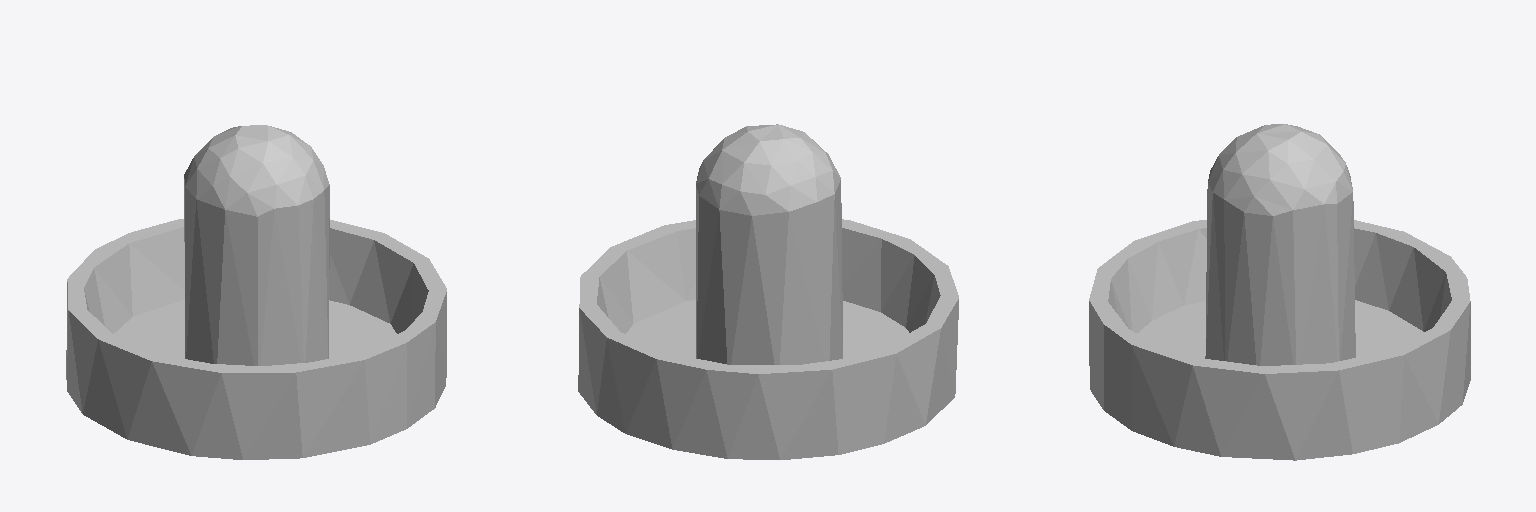
File: Paddle250b.obj
3 renders of one model, left to right at view 1: azimuth 30°, elevation 25°; view 2: azimuth 150°, elevation 25°; view 3: azimuth 270°, elevation 25°, orthographic.
Parts seen in each view (by area): view 1: Mesh_Cylinder.001; view 2: Mesh_Cylinder.001; view 3: Mesh_Cylinder.001.
Boxes of the visible parts, box(x1,y1,x2,y2) form: Mesh_Cylinder.001: box(66, 125, 446, 459); Mesh_Cylinder.001: box(578, 124, 958, 459); Mesh_Cylinder.001: box(1089, 124, 1470, 460).
Size of the model in its own units: 4 by 2.86 by 4.